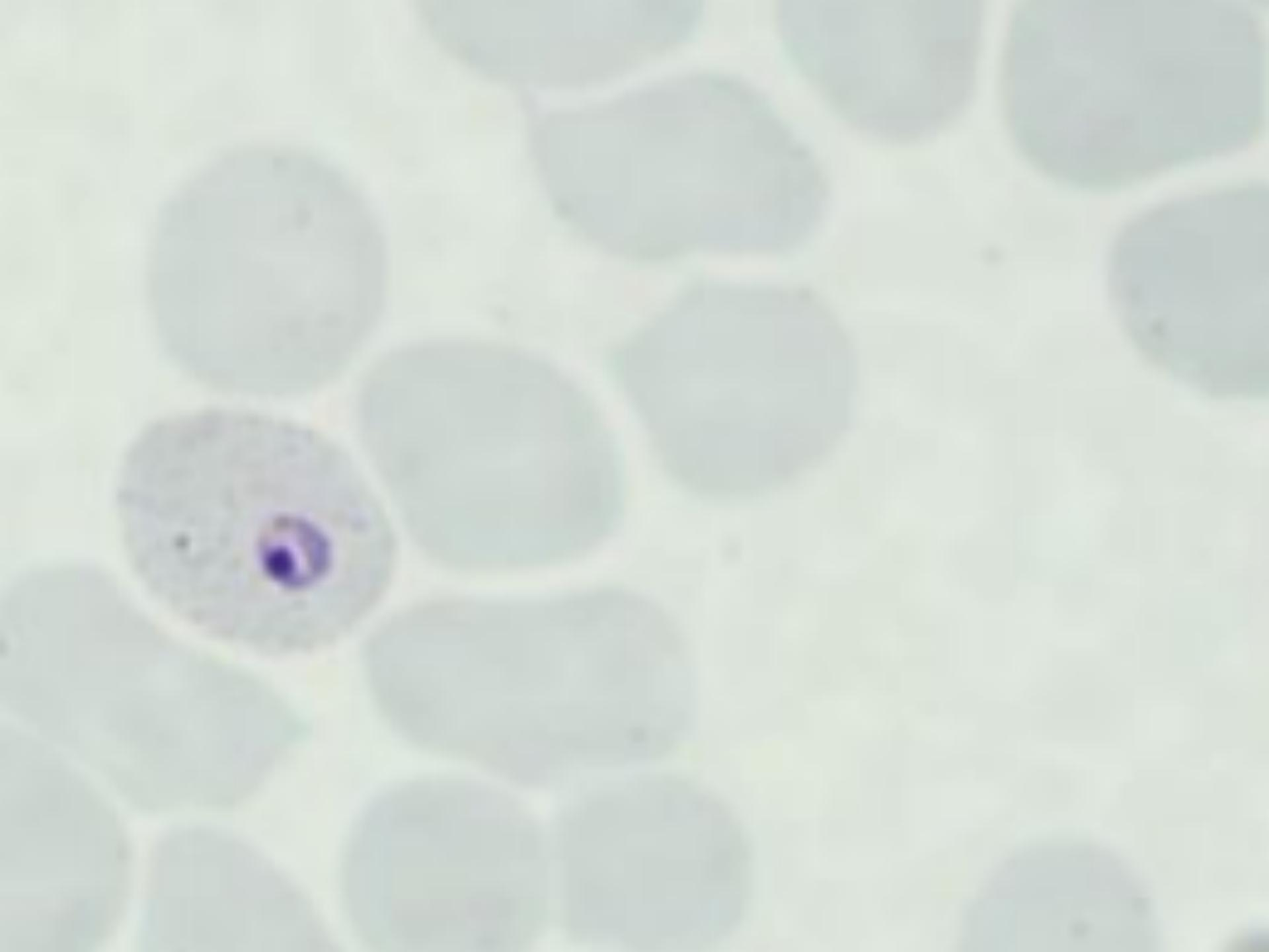Infected: (121, 407, 395, 653)
Uninfected: (0, 561, 318, 806), (372, 580, 701, 786), (357, 337, 626, 571), (150, 146, 387, 394), (525, 71, 827, 259), (1000, 0, 1269, 191), (630, 280, 860, 494), (340, 771, 560, 952), (1112, 185, 1269, 401), (552, 784, 753, 952)
